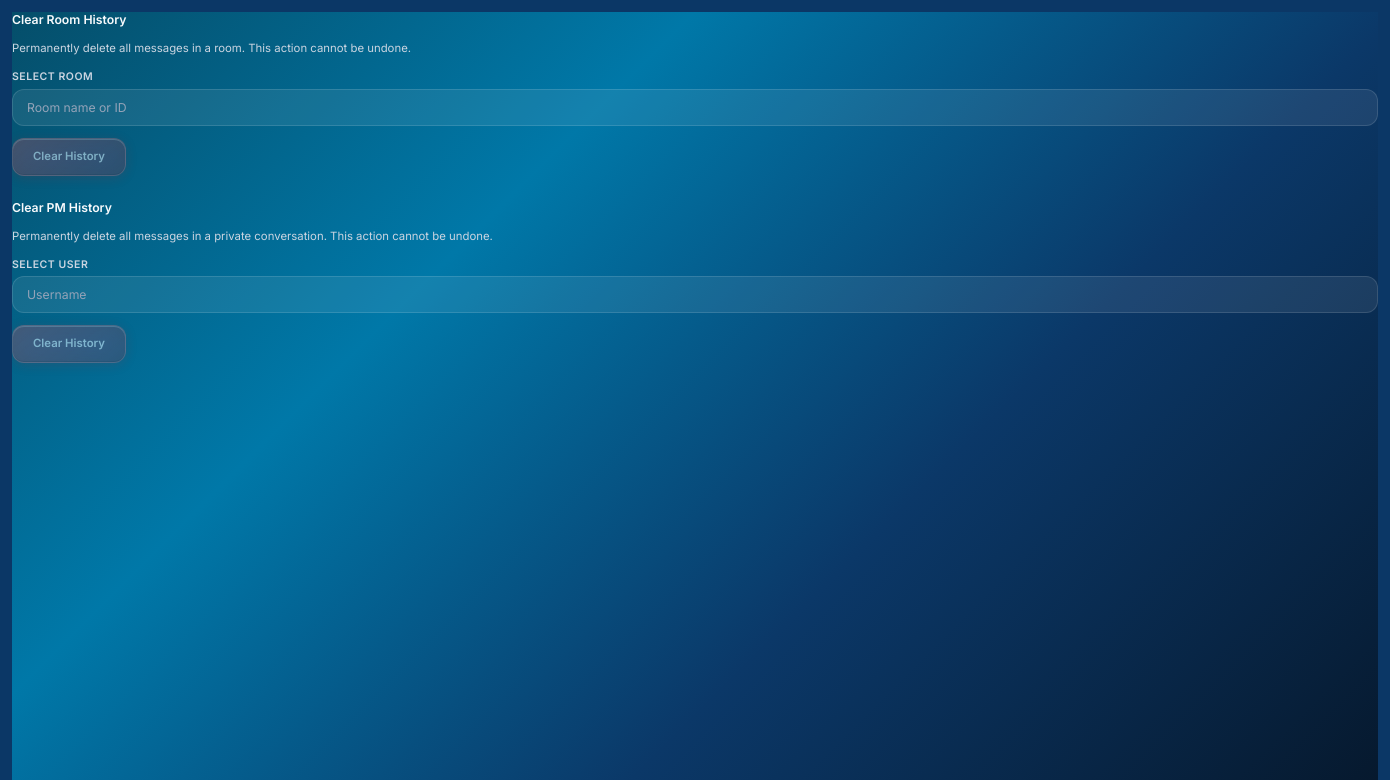
it: AccountSection › Clear Room History › shows confirmation dialog on first click
The width and height of the screenshot is (1390, 780).
Type "general" into the field labelled "Select Room" at (695, 107), box [12,89,1378,126]
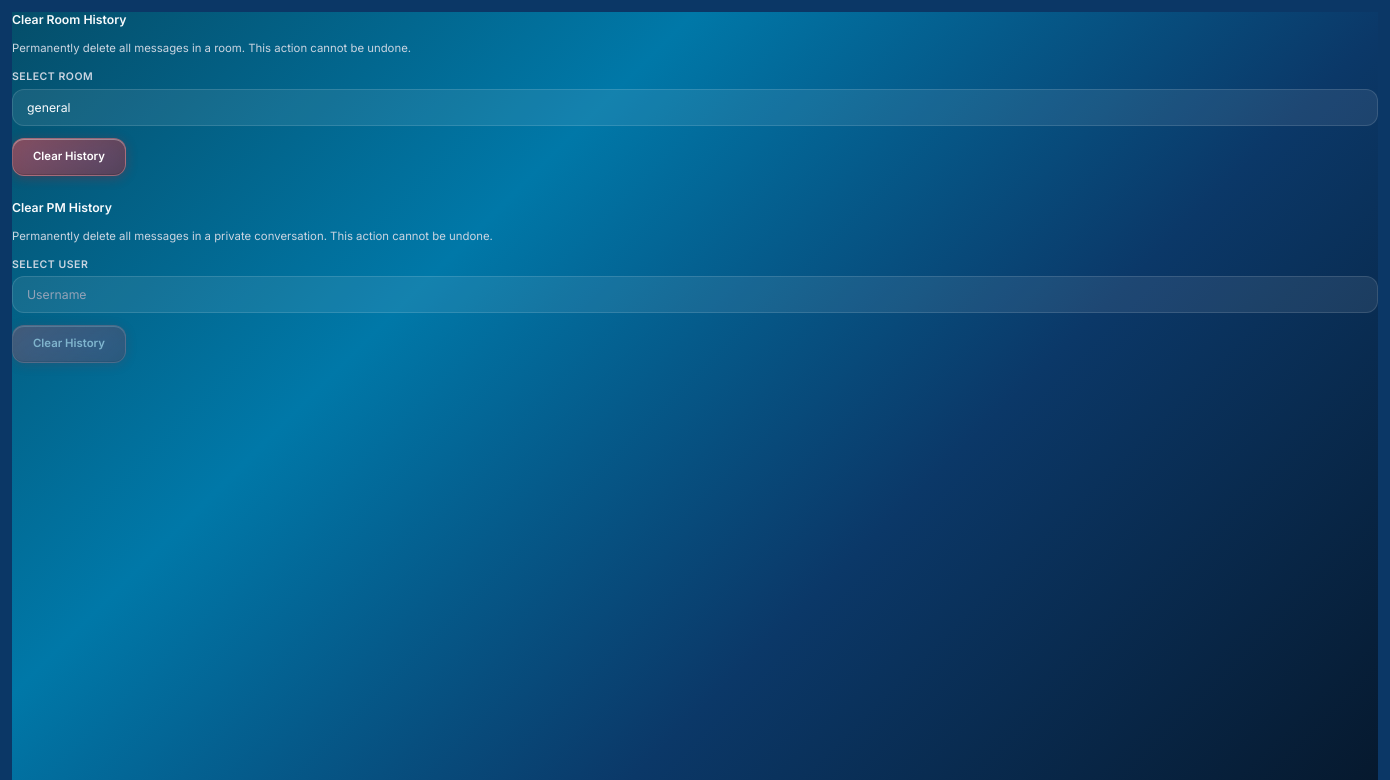
Click the button "Clear History" below "Select Room" at (69, 157), box [12,138,126,176]
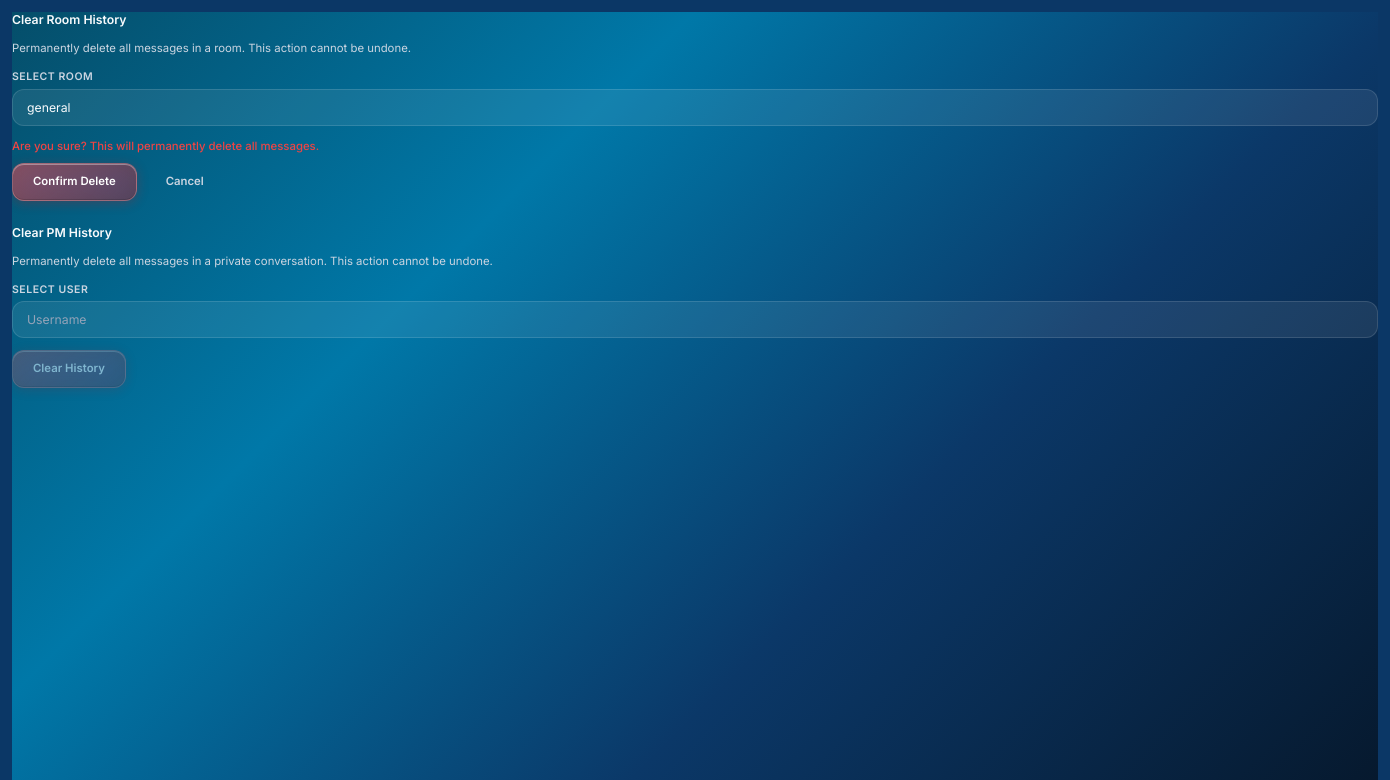
Check: the text "Are you sure? This will permanently delete all messages." is shown, box [12,139,319,153]
Check: the button "Confirm Delete" is shown, box [12,163,137,201]
Check: the button "Cancel" is shown, box [145,163,225,201]
